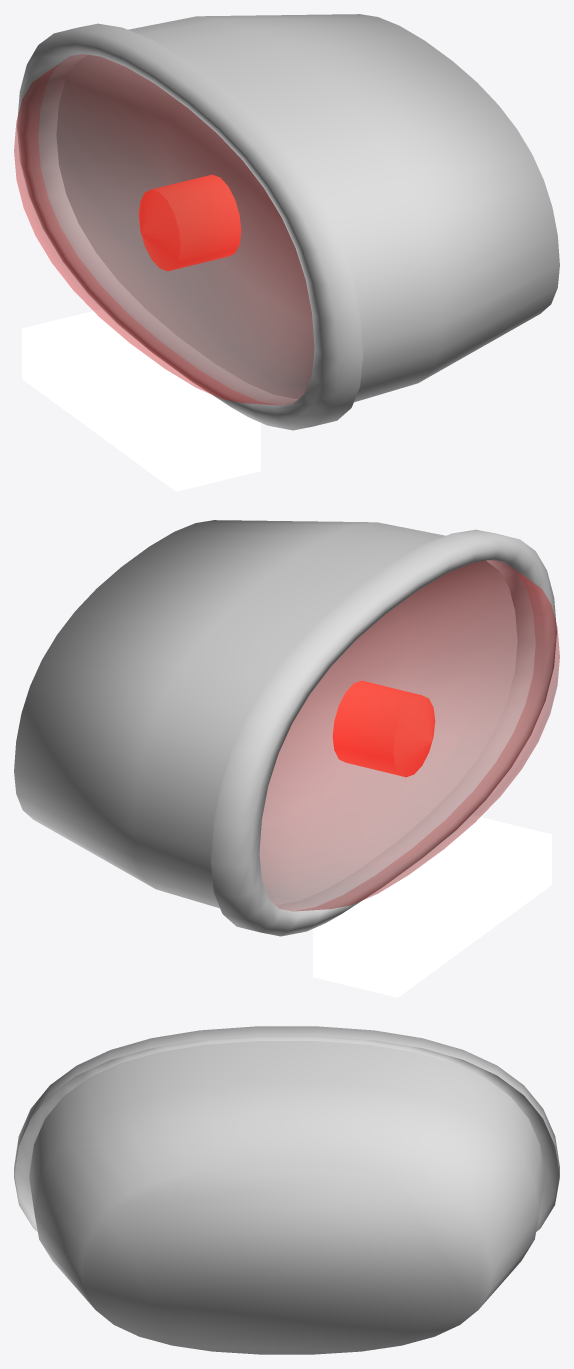
Rendered from classic.glb.
3 views of the same model, one above another, from view 1: azimuth 30°, elevation 25°; view 2: azimuth 150°, elevation 25°; view 3: azimuth 270°, elevation 25° (orthographic). The views are drawn at different scales.
Parts seen in each view (by area): view 1: tail_light_classic; view 2: tail_light_classic; view 3: tail_light_classic.
Part boxes in pixels (x1,y1,x2,y2): tail_light_classic: [14, 14, 559, 491]; tail_light_classic: [14, 520, 559, 997]; tail_light_classic: [14, 1026, 559, 1354].
Size of the model in its own units: 0.056 by 0.0533 by 0.092.
